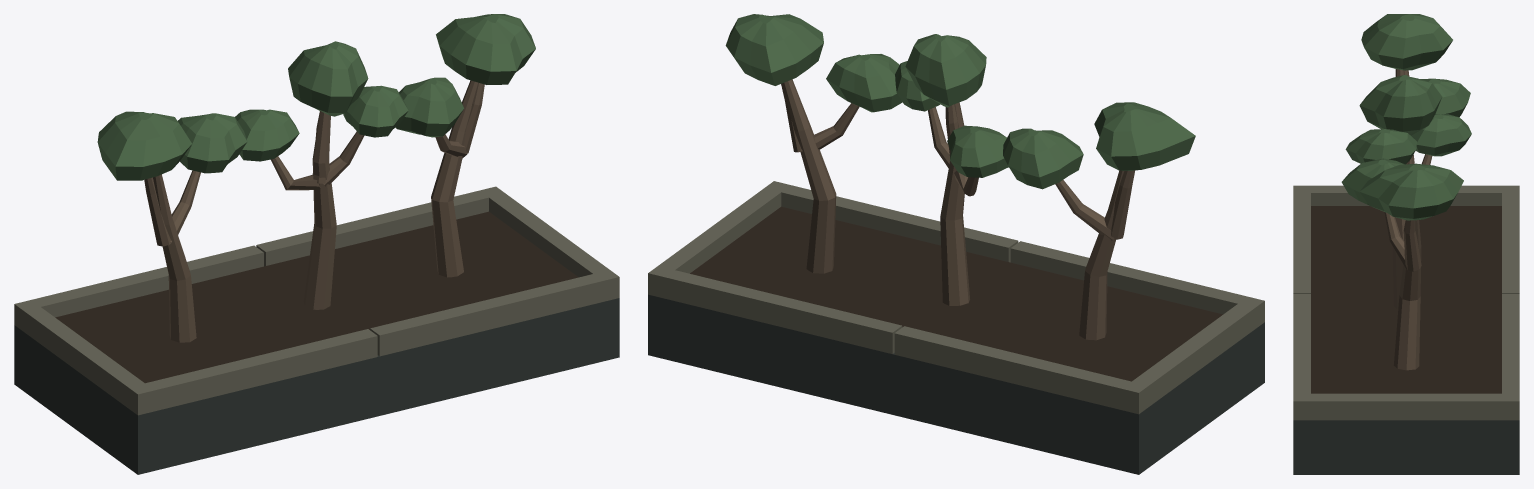
Rendered from signature-garden.glb.
The picture shows the model from 3 angles, left to right: view 1: azimuth 30°, elevation 25°; view 2: azimuth 150°, elevation 25°; view 3: azimuth 270°, elevation 25°; orthographic projection. The views are drawn at different scales.
Visible parts, largest first — view 1: bed_support, soil, rim_long_1_0, rim_long_1_1, tree2_crown0, rim_long_0_0, tree0_crown0, rim_long_0_1, tree1_crown0, rim_end_0, tree1_trunk, tree2_trunk (+10 smaller); view 2: bed_support, soil, rim_long_0_0, rim_long_0_1, rim_long_1_0, tree2_crown0, tree0_crown0, rim_long_1_1, tree1_crown0, rim_end_0, tree2_trunk, tree0_crown1 (+10 smaller); view 3: soil, bed_support, rim_end_1, tree2_crown0, tree0_crown0, tree1_crown0, tree2_trunk, rim_long_0_1, rim_long_1_1, rim_long_0_0, rim_long_1_0, tree1_crown2 (+7 smaller).
Part boxes in pixels (x1,y1,x2,y2): bed_support: (14,298,619,474); soil: (55,211,578,383); rim_long_1_0: (128,329,377,415); rim_long_1_1: (370,270,619,356); tree2_crown0: (436,14,535,84); rim_long_0_0: (14,245,263,331); tree0_crown0: (97,111,191,180); rim_long_0_1: (256,186,505,266); tree1_crown0: (288,41,368,116); rim_end_0: (24,307,144,407); tree1_trunk: (303,111,336,309); tree2_trunk: (431,80,477,277); bed_support: (648,294,1264,474); soil: (690,206,1222,381); rim_long_0_0: (894,326,1148,414); rim_long_0_1: (648,266,902,353); rim_long_1_0: (1010,241,1264,328); tree2_crown0: (725,14,823,85); tree0_crown0: (1094,102,1195,170); rim_long_1_1: (764,181,1018,262); tree1_crown0: (905,34,986,107); rim_end_0: (1132,304,1254,406); tree2_trunk: (782,79,836,273); tree0_crown1: (1003,128,1083,189); soil: (1311,206,1501,393); bed_support: (1293,420,1519,474); rim_end_1: (1311,393,1501,420); tree2_crown0: (1359,163,1463,220); tree0_crown0: (1361,14,1452,70); tree1_crown0: (1359,75,1442,135); tree2_trunk: (1393,220,1421,370); rim_long_0_1: (1502,294,1519,420); rim_long_1_1: (1293,294,1310,420); rim_long_0_0: (1502,185,1519,293); rim_long_1_0: (1293,185,1310,293); tree1_crown2: (1345,129,1416,164).
Bounding box in the file's own units: 4.5 × 2.89 × 2.
